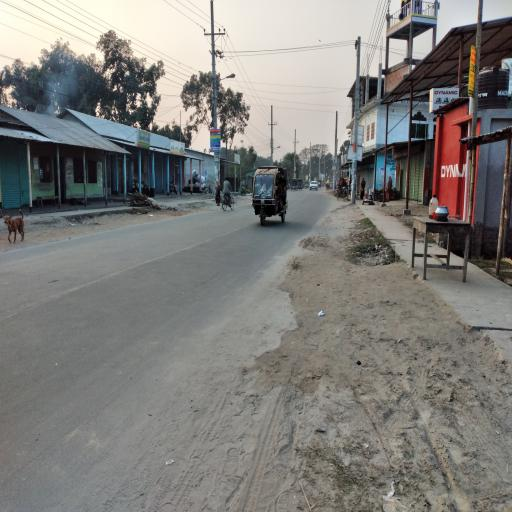auto rickshaw: (251, 165, 289, 229), (298, 177, 305, 191), (292, 179, 298, 193)
bicycle: (222, 179, 236, 214), (129, 180, 153, 197)
car: (310, 181, 319, 192)
motorbike: (166, 177, 180, 197)
rickshaw: (338, 178, 350, 204), (318, 180, 324, 191)
truck: (326, 175, 340, 191)
